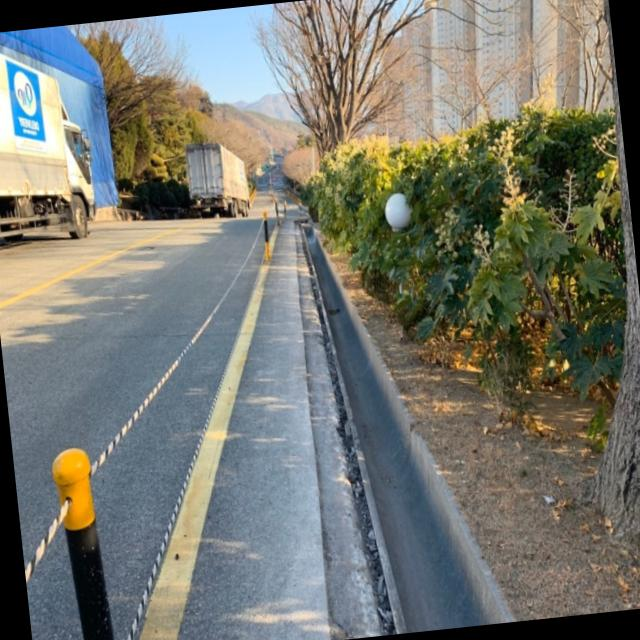asphalt: (0, 190, 276, 563), (92, 207, 329, 640), (27, 539, 82, 640)
cement: (307, 229, 514, 633)
red-sand: (333, 254, 640, 621)
